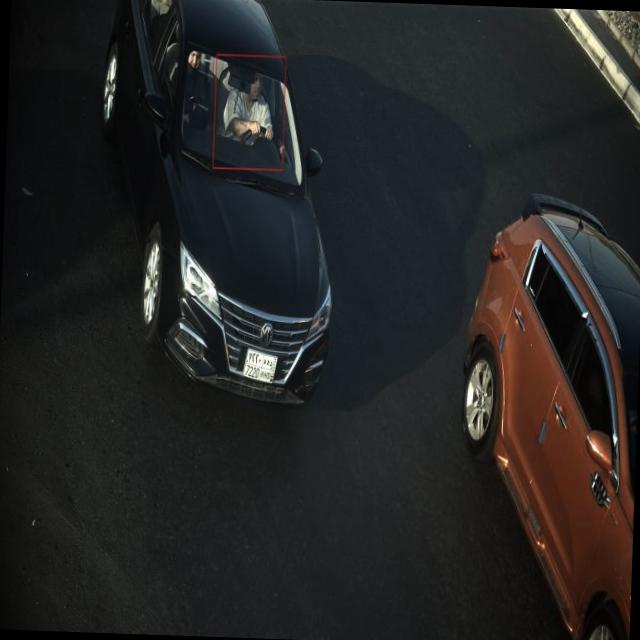person_without_seatbelt: (219, 64, 288, 158)
